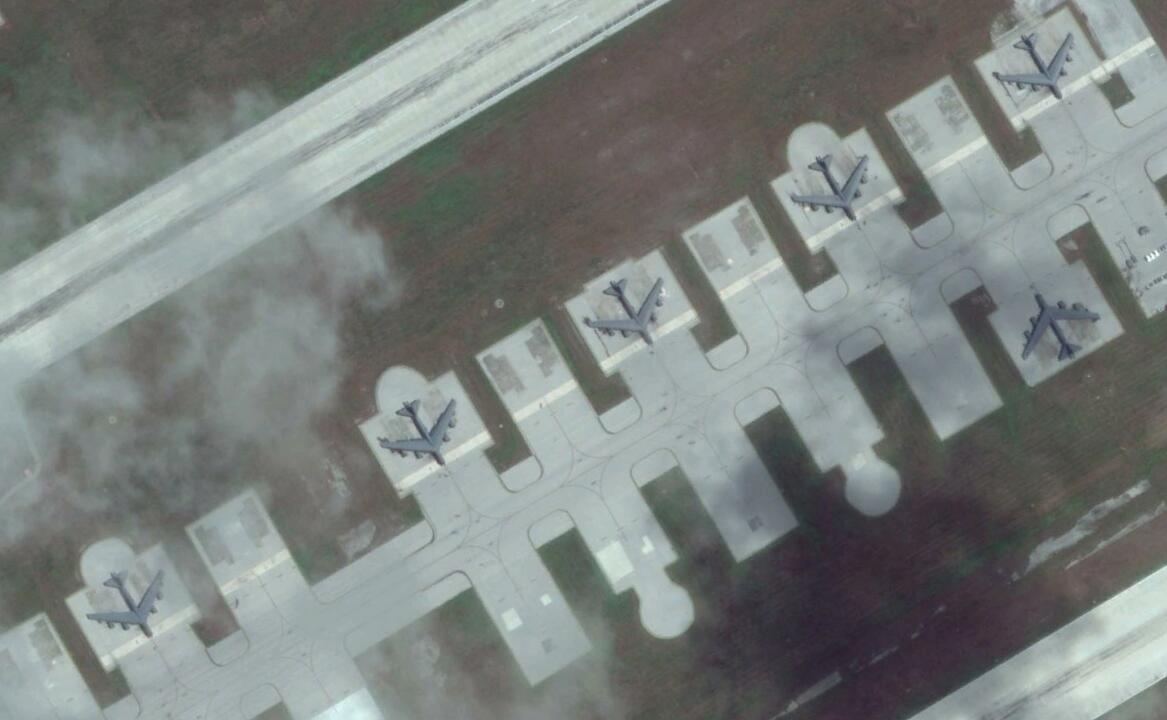A8: (86, 560, 171, 641), (584, 274, 673, 350), (1019, 291, 1103, 365), (793, 151, 877, 225), (998, 27, 1079, 102), (377, 396, 461, 464)
